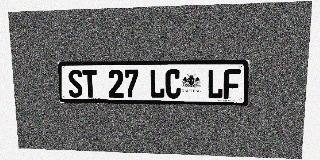2: (108, 69, 124, 98)
7: (124, 69, 139, 98)
C: (165, 69, 181, 98)
F: (223, 69, 241, 99)
L: (207, 69, 223, 99), (149, 69, 165, 98)
S: (68, 70, 83, 97)
T: (82, 69, 98, 98)
